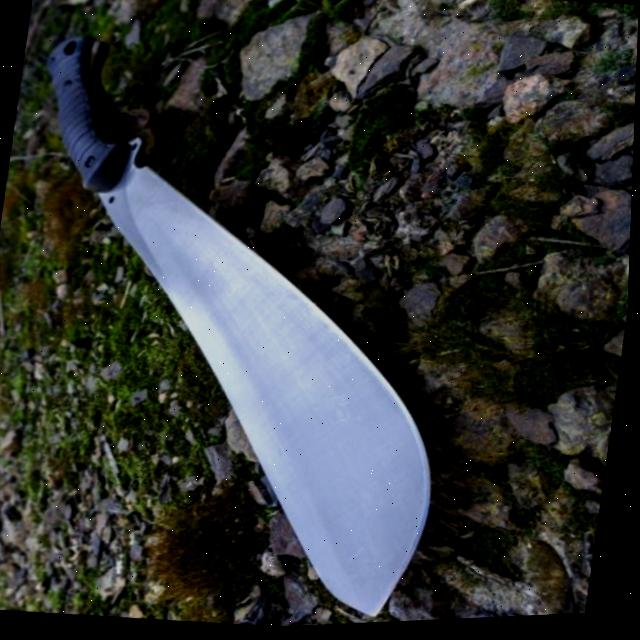long knife: (0, 14, 518, 631)
